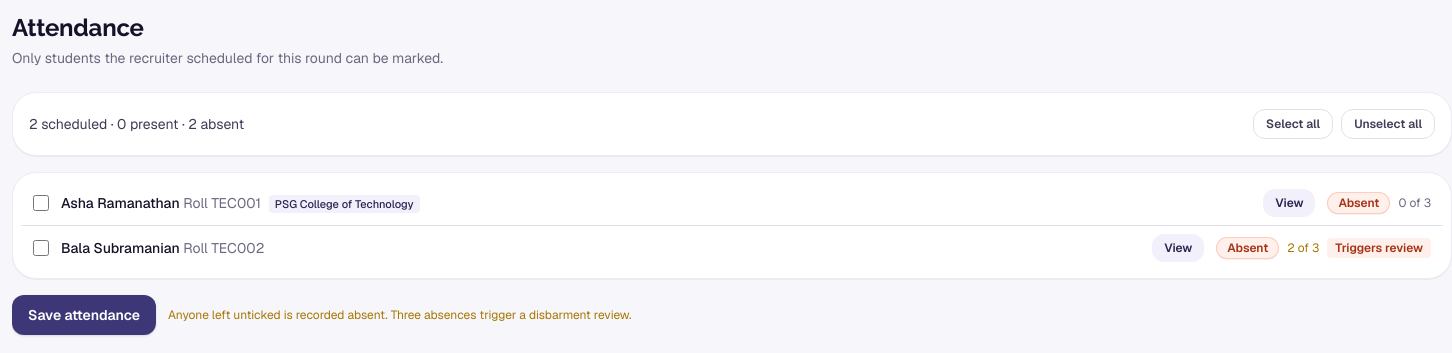
Scenario: AttendancePage › states the mark each row holds, and moves it when the box is ticked
This screenshot has width=1452, height=353.
Expected: the text "Absent" next to "0 of 3" is shown, [1338,195,1379,211]
Click the checkbox labelled "Asha Ramanathan Roll TEC001PSG College of Technology" at (41, 203), box [33,195,49,211]
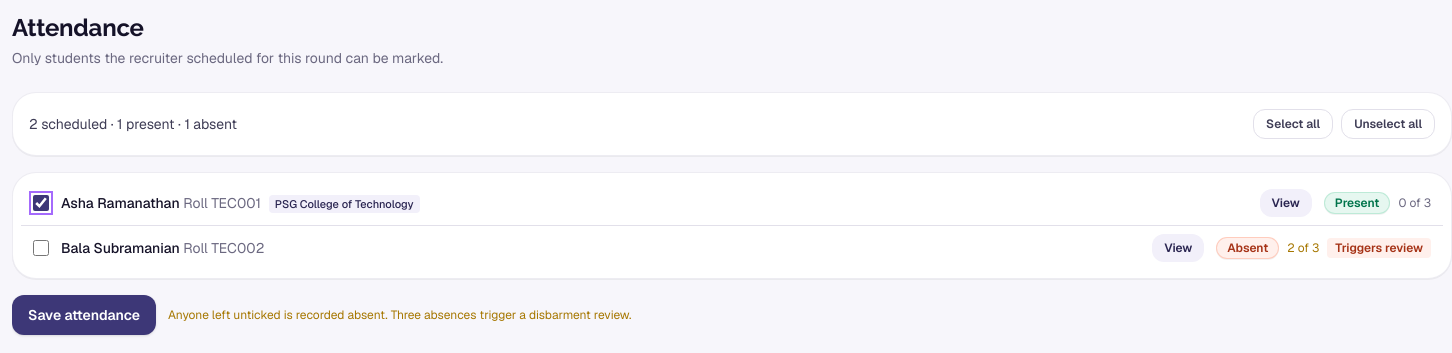
Expected: the text "Present" is shown, [1324,192,1390,214]
